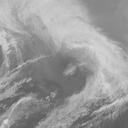cyclone: (38, 16, 119, 89)
